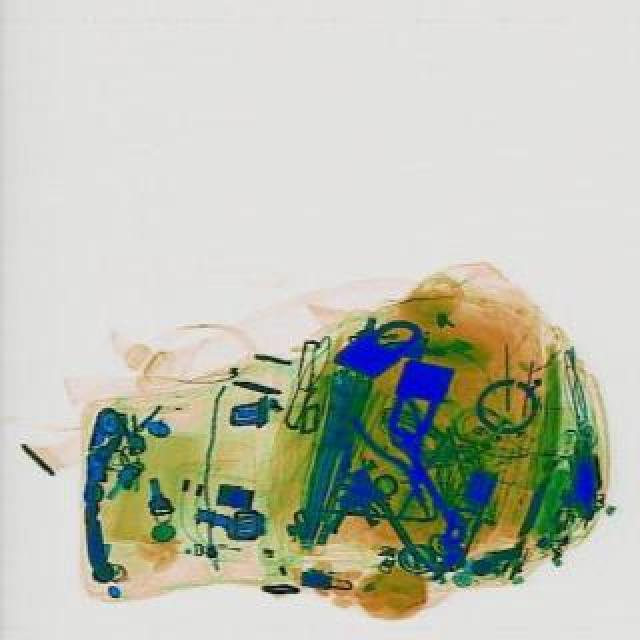wrench: (350, 394, 460, 524)
